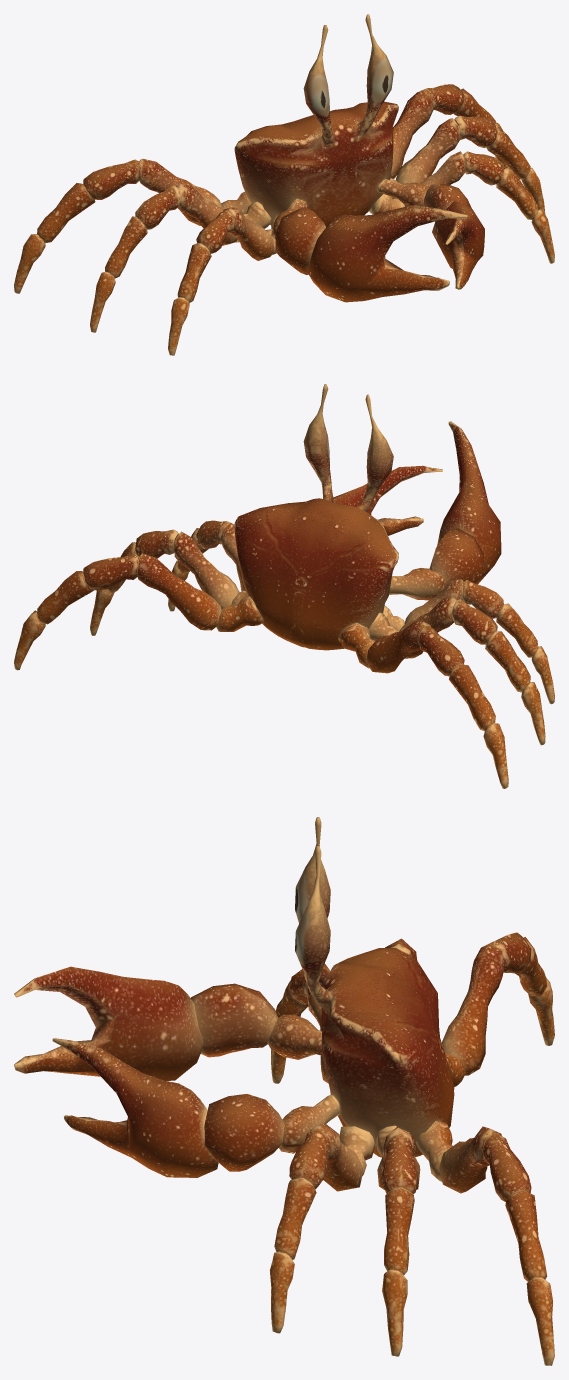
Rendered from Cangrejo_PBR.glb.
3 views of the same model, one above another, from view 1: azimuth 30°, elevation 25°; view 2: azimuth 150°, elevation 25°; view 3: azimuth 270°, elevation 25° (orthographic). The views are drawn at different scales.
Parts seen in each view (by area): view 1: Cangrejo_MAIN_Geo; view 2: Cangrejo_MAIN_Geo; view 3: Cangrejo_MAIN_Geo.
Part boxes in pixels (box(x1,y1,x2,y2)): Cangrejo_MAIN_Geo: box(14, 14, 554, 355); Cangrejo_MAIN_Geo: box(14, 384, 554, 788); Cangrejo_MAIN_Geo: box(14, 817, 554, 1365).
Bounding box in the file's own units: 16.52 × 8.92 × 11.61.
Materials: 1 (1 with a texture image).
